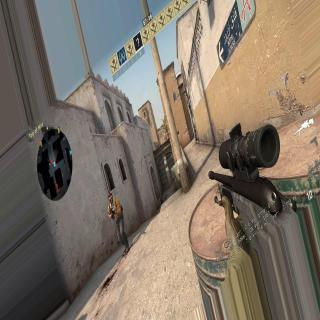T-Body: (107, 190, 130, 254)
T-Head: (108, 193, 114, 204)
